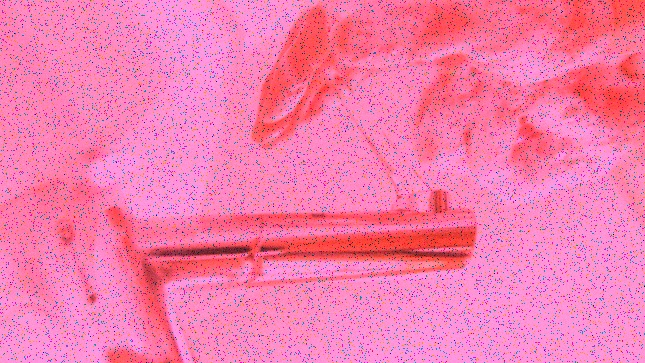washing hand: (43, 0, 644, 362)
